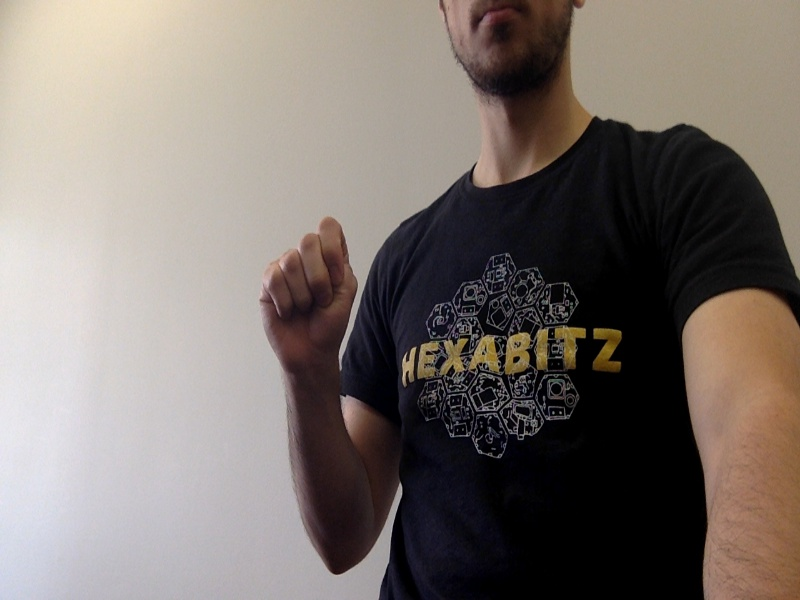0-hand: (263, 218, 355, 364)
